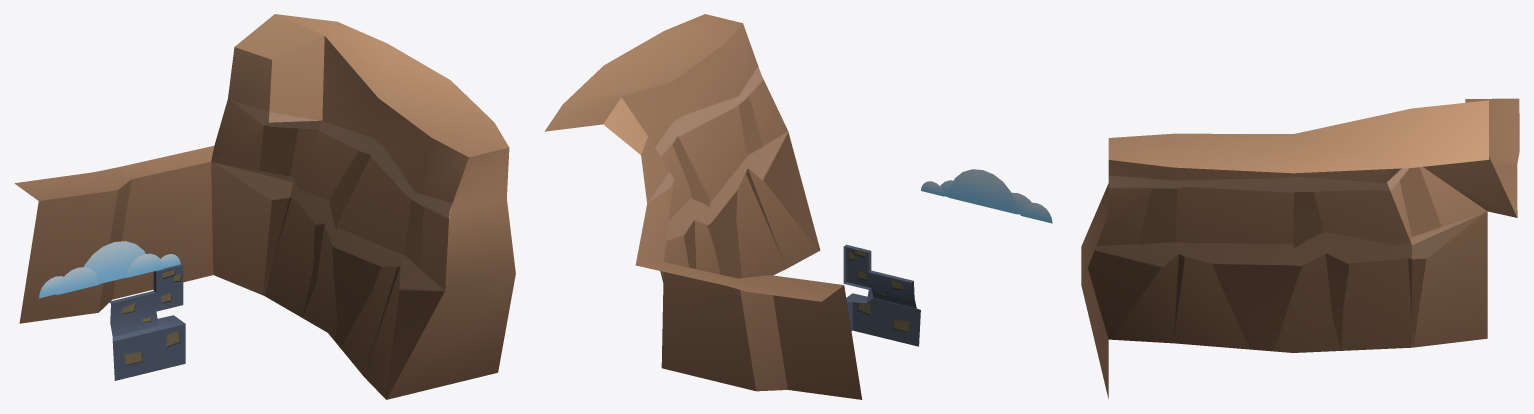
Rendered from may.fbx.
3 views of the same model, side by side, from view 1: azimuth 30°, elevation 25°; view 2: azimuth 150°, elevation 25°; view 3: azimuth 270°, elevation 25° (orthographic). The views are drawn at different scales.
Visible parts, largest first — view 1: pCube261, pCube262, pCylinder95; view 2: pCube261, pCube262, pCylinder95; view 3: pCube261.
Boxes of the visible parts, x1=… form: pCube261: x1=14, y1=14, x2=515, y2=399; pCube262: x1=109, y1=264, x2=185, y2=380; pCylinder95: x1=39, y1=241, x2=180, y2=298; pCube261: x1=544, y1=14, x2=862, y2=399; pCube262: x1=843, y1=244, x2=920, y2=346; pCylinder95: x1=921, y1=169, x2=1052, y2=223; pCube261: x1=1081, y1=98, x2=1519, y2=398.
Bounding box in the file's own units: 235 × 124 × 181.
